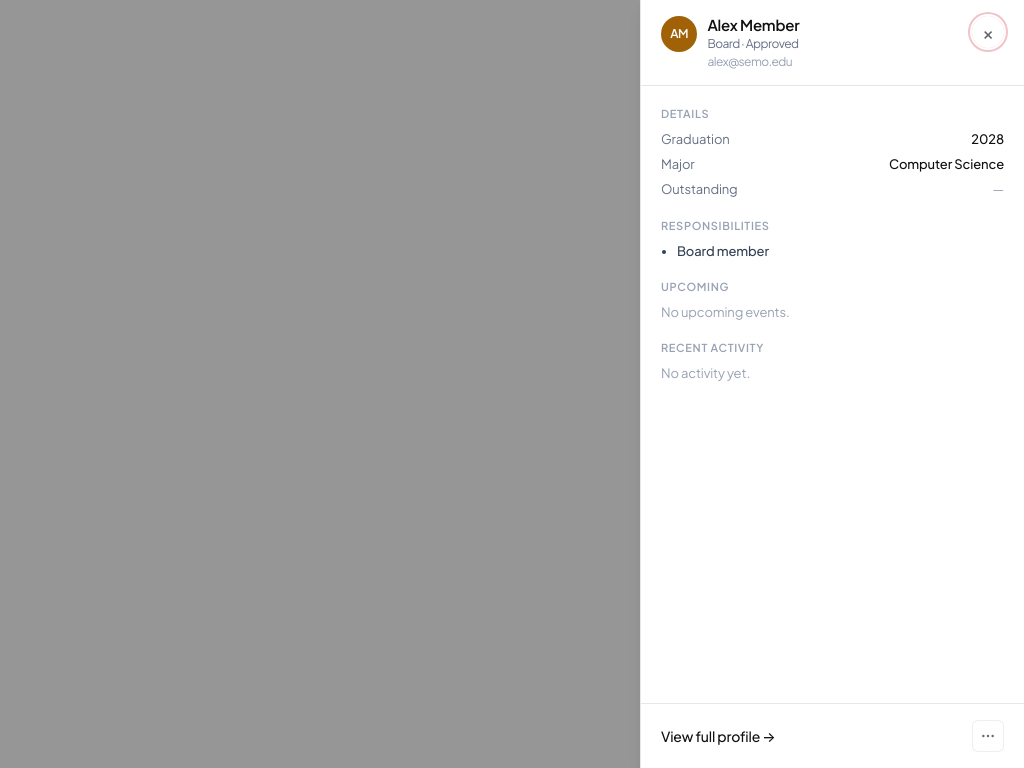
MemberQuickViewDrawer › keeps Edit / Message / Email in the overflow menu
Click the button named "More actions" at x=988, y=736, box [972, 720, 1004, 752]
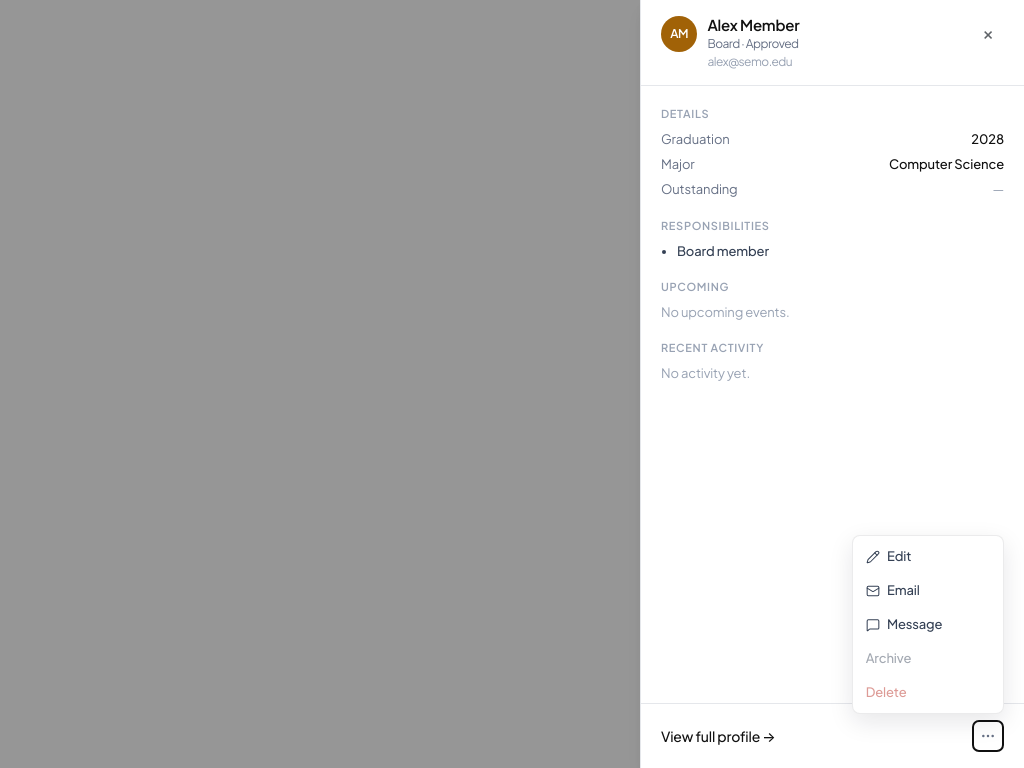
Click the menu item "Edit" at x=928, y=557, box [857, 540, 999, 574]
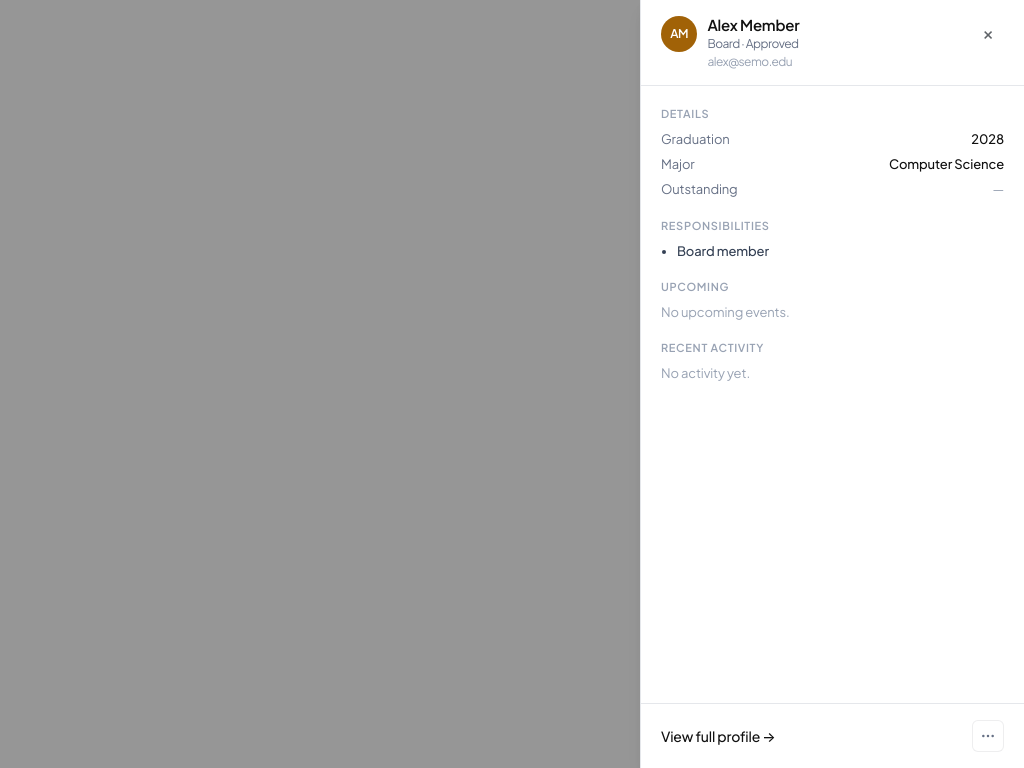
Click the button named "More actions" at x=988, y=736, box [972, 720, 1004, 752]
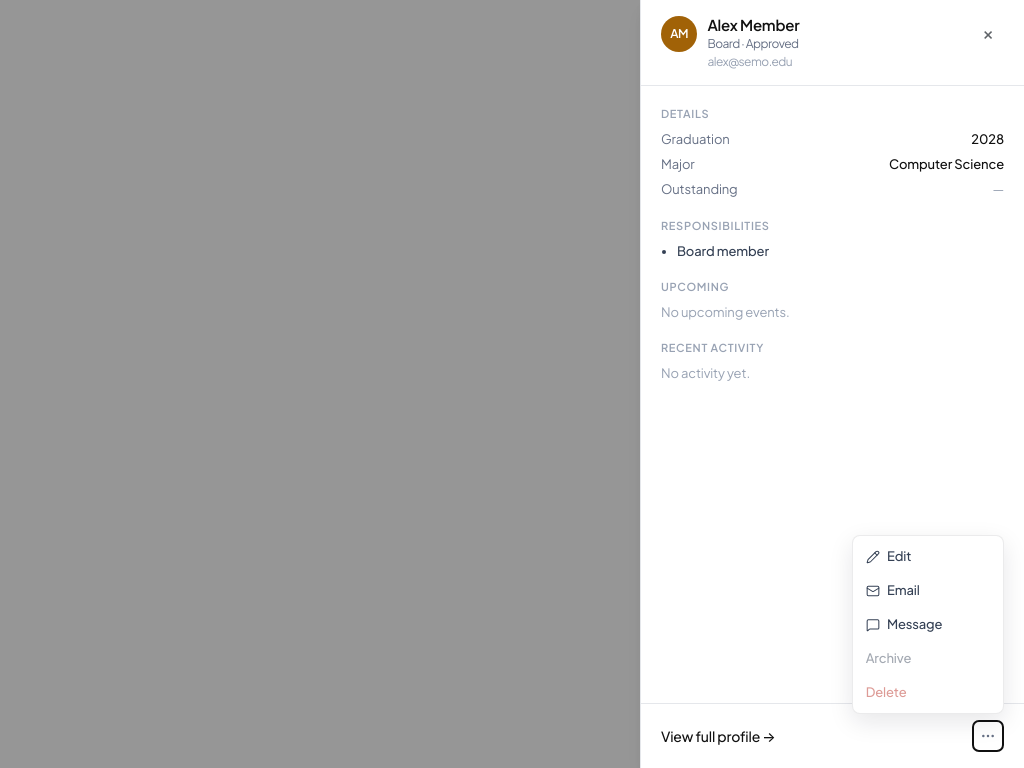
Now the menu item "Message" is enabled, box [857, 608, 999, 642]
